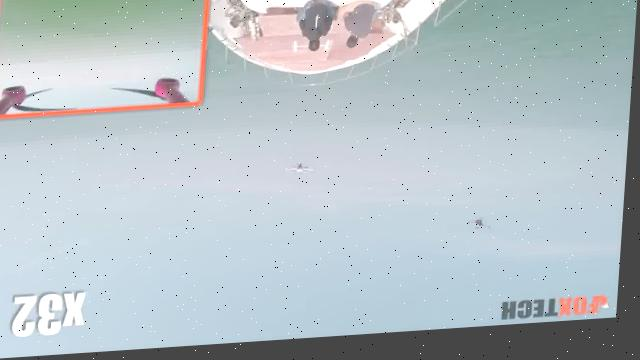drone: (283, 160, 323, 185), (466, 220, 501, 244)
